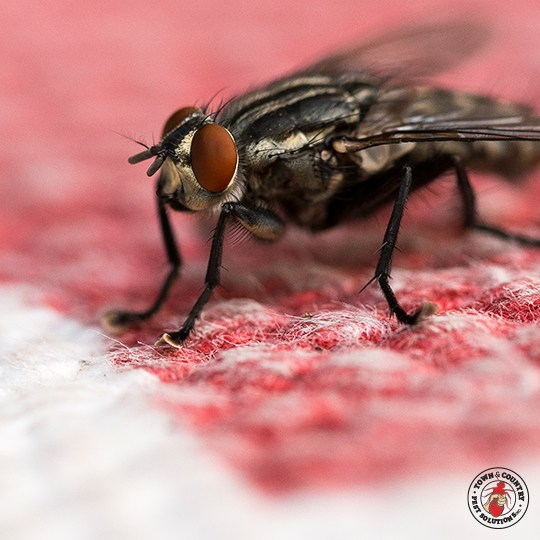house fly: (100, 11, 540, 353)
